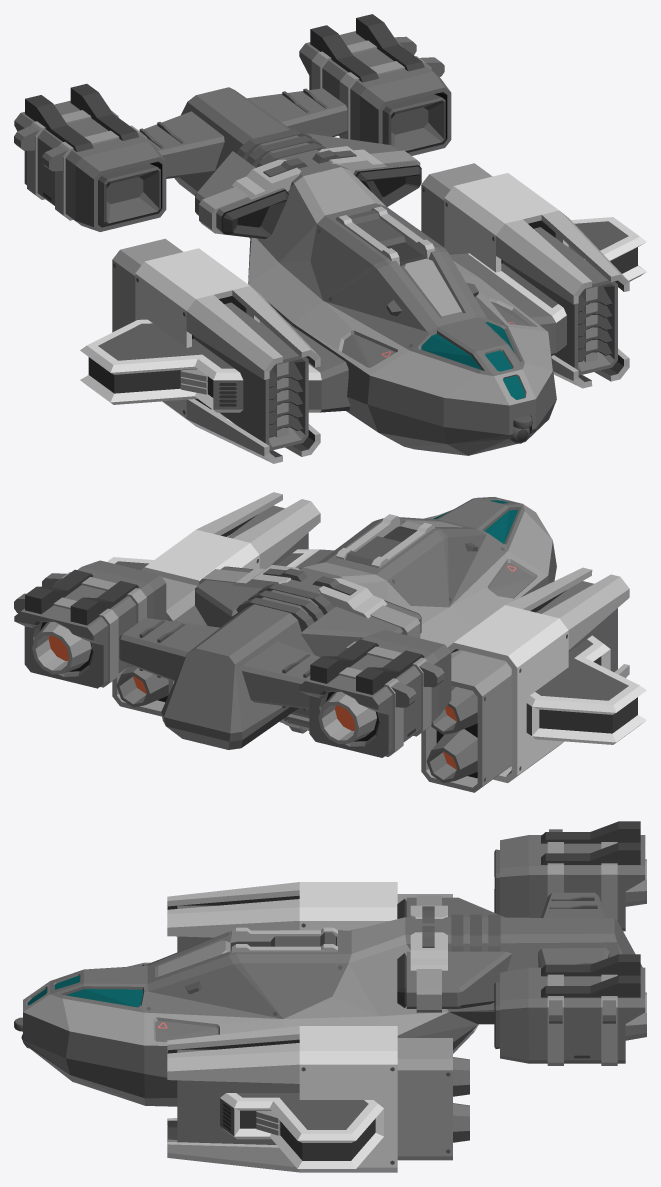
The model's file is starship_005.fbx.
The picture shows the model from 3 angles, top to bottom: view 1: azimuth 30°, elevation 25°; view 2: azimuth 150°, elevation 25°; view 3: azimuth 270°, elevation 25°; orthographic projection. The views are drawn at different scales.
Visible parts, largest first — view 1: starship_005; view 2: starship_005; view 3: starship_005.
Part boxes in pixels (x1,y1,x2,y2): starship_005: (14, 14, 646, 463); starship_005: (14, 492, 646, 792); starship_005: (14, 821, 646, 1172).
Size of the model in its own units: 1955 by 2096 by 678.
